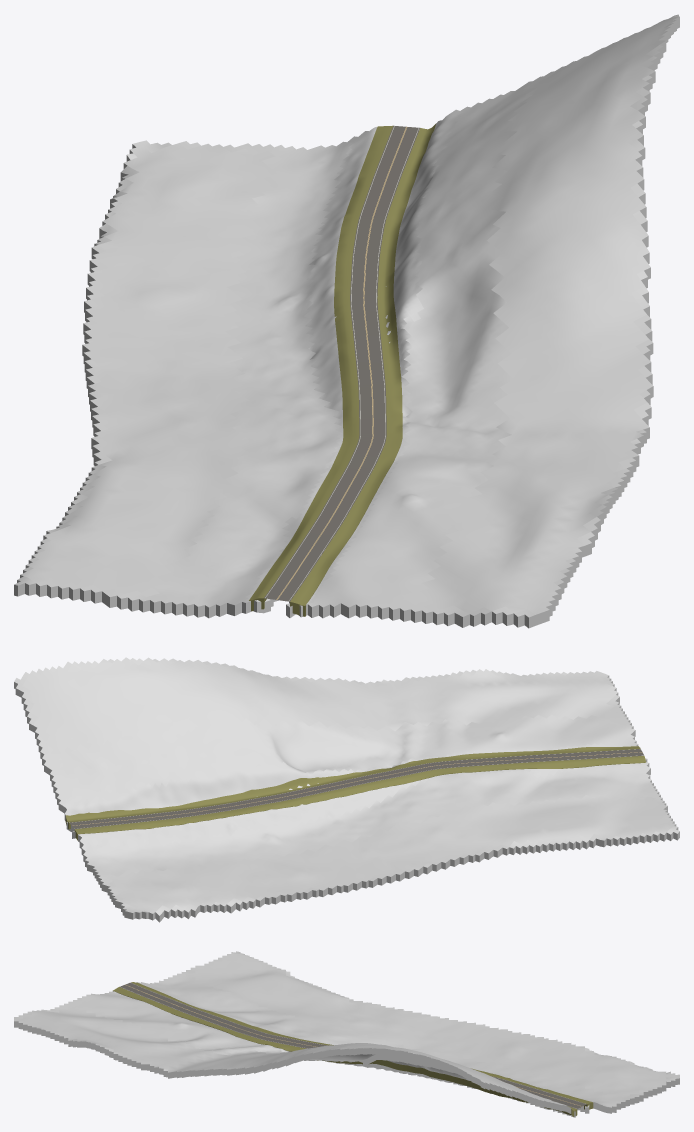
File: conz_50.glb
3 renders of one model, top to bottom at view 1: azimuth 30°, elevation 25°; view 2: azimuth 150°, elevation 25°; view 3: azimuth 270°, elevation 25°, orthographic. The views are drawn at different scales.
Parts seen in each view (by area): view 1: terrain50, road50, verge50R, verge50L, paint_white50, paint_yellow50; view 2: terrain50, road50, verge50L, verge50R, paint_yellow50, paint_white50; view 3: terrain50, road50, verge50R, verge50L.
Part boxes in pixels (x1,y1,x2,y2): terrain50: [14, 14, 679, 628]; road50: [264, 125, 419, 601]; verge50R: [290, 123, 436, 616]; verge50L: [249, 125, 392, 611]; paint_white50: [265, 126, 418, 601]; paint_yellow50: [276, 127, 407, 599]; terrain50: [14, 657, 679, 922]; road50: [69, 749, 643, 829]; verge50L: [74, 756, 646, 840]; verge50R: [65, 746, 640, 829]; paint_yellow50: [72, 752, 642, 825]; paint_white50: [69, 749, 642, 828]; terrain50: [14, 951, 679, 1117]; road50: [119, 982, 586, 1108]; verge50R: [113, 987, 577, 1116]; verge50L: [131, 982, 593, 1109].
Size of the model in its own units: 252 by 61.24 by 294.
